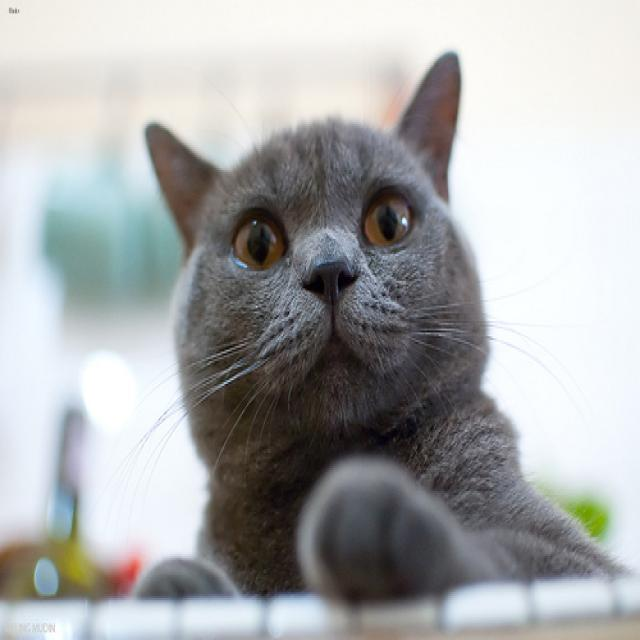British_Shorthair: (143, 50, 457, 415)
